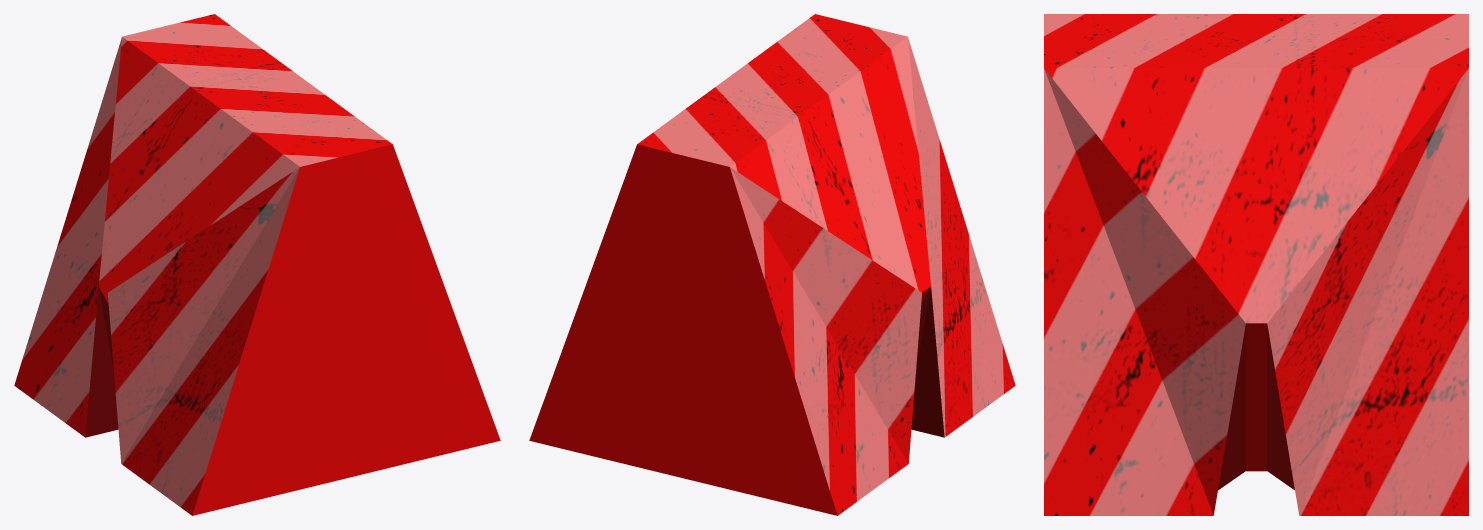
The model's file is barrier.fbx.
3 views of the same model, side by side, from view 1: azimuth 30°, elevation 25°; view 2: azimuth 150°, elevation 25°; view 3: azimuth 270°, elevation 25° (orthographic). The views are drawn at different scales.
Parts seen in each view (by area): view 1: Cube; view 2: Cube; view 3: Cube.
Part boxes in pixels (bbox=[...]): Cube: bbox=[14, 14, 500, 515]; Cube: bbox=[529, 14, 1015, 515]; Cube: bbox=[1044, 14, 1468, 515].
Size of the model in its own units: 200 by 200 by 200.
Materials: 1 (1 with a texture image).
